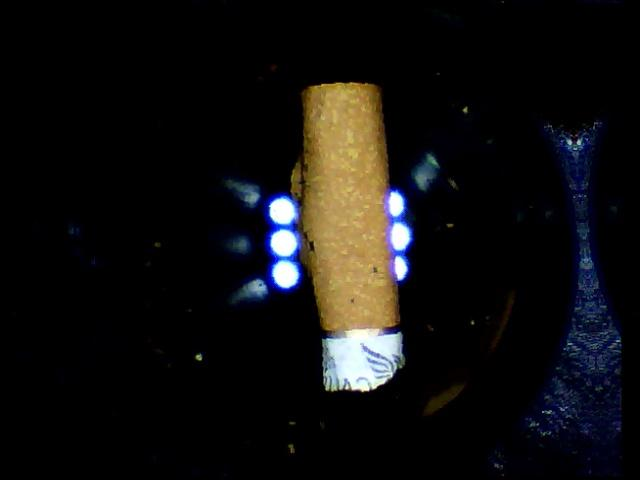megot: (280, 65, 418, 404)
